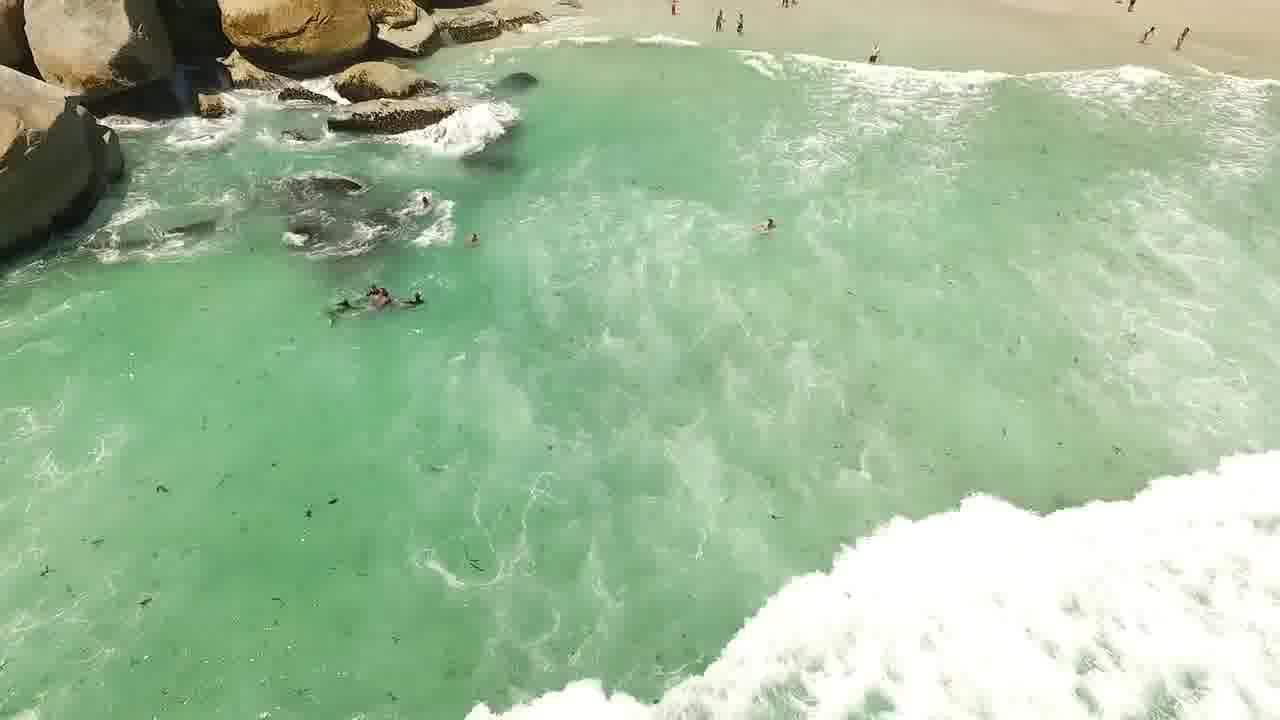swimmer: (746, 205, 803, 244), (453, 224, 499, 256), (356, 281, 399, 313), (322, 298, 360, 330), (406, 282, 438, 319), (1167, 19, 1195, 58), (857, 33, 888, 67), (729, 5, 752, 43), (712, 6, 727, 34)
